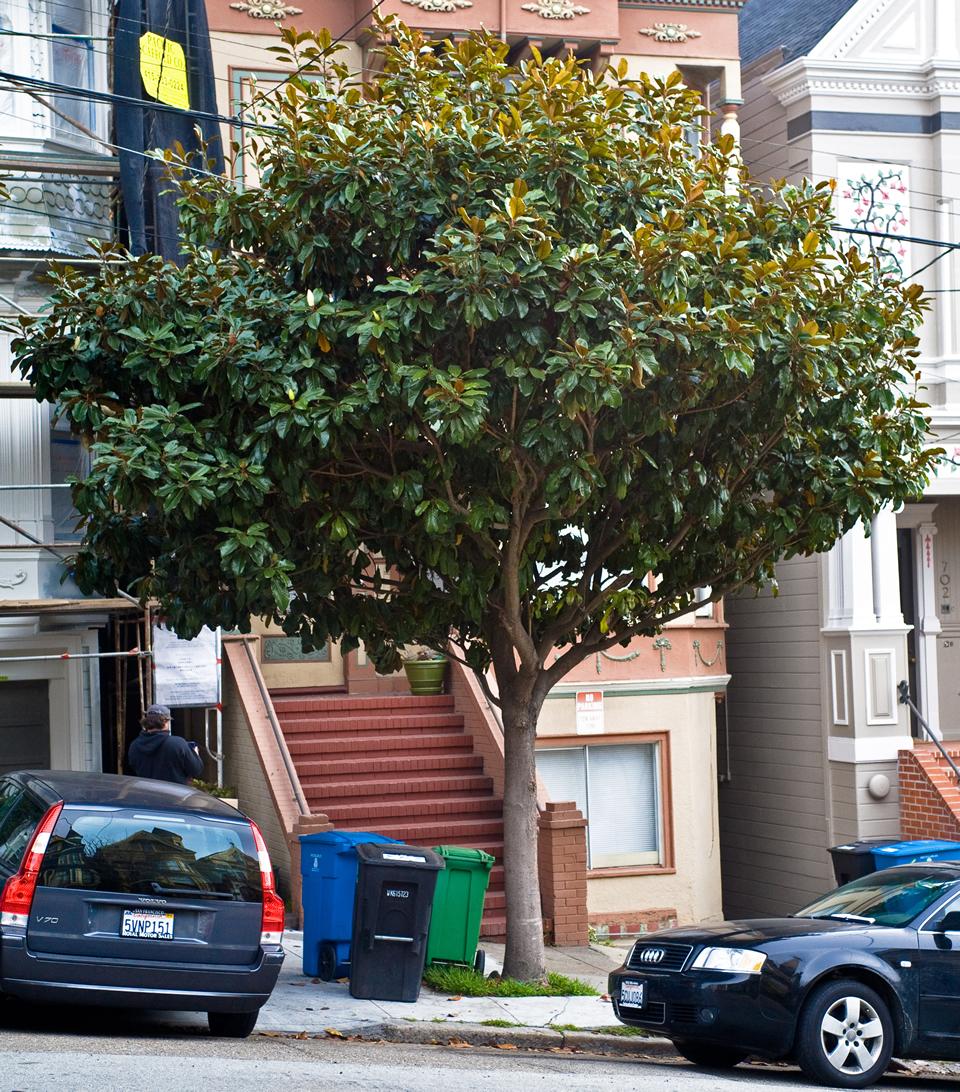tree: (6, 11, 960, 985)
